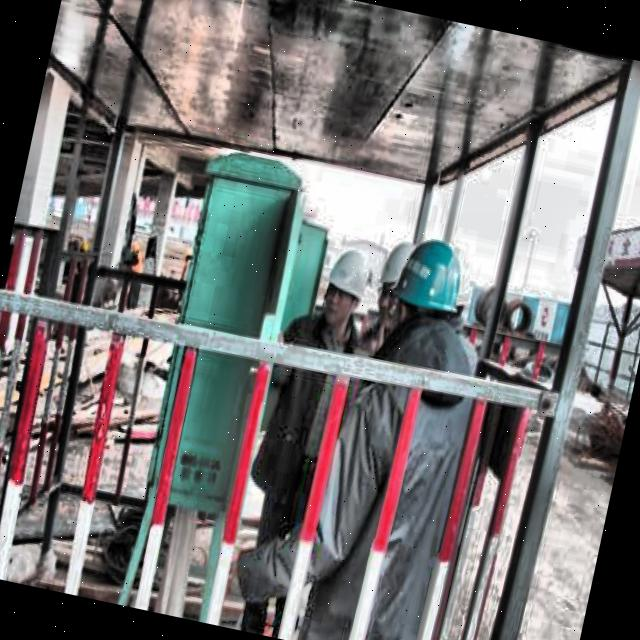helmet: (372, 215, 478, 374), (306, 232, 392, 346)
